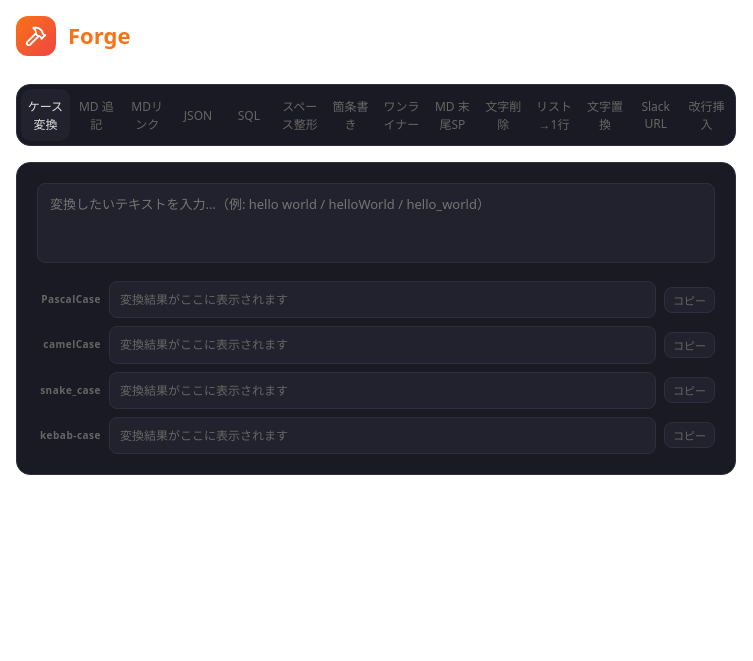
Scenario: MD 追記 › 出力が表示されるとコピーボタンが現れる
The image size is (753, 661).
Click the tab "MD 追記" at [96, 115], box [72, 89, 121, 141]
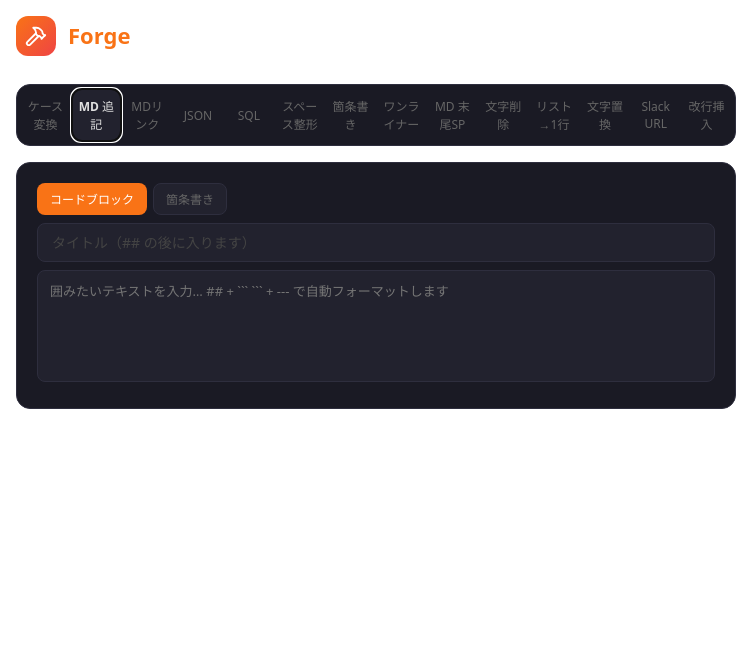
Type "テスト" into the text box named "MDラッパー入力" at [376, 326], box [37, 270, 715, 382]
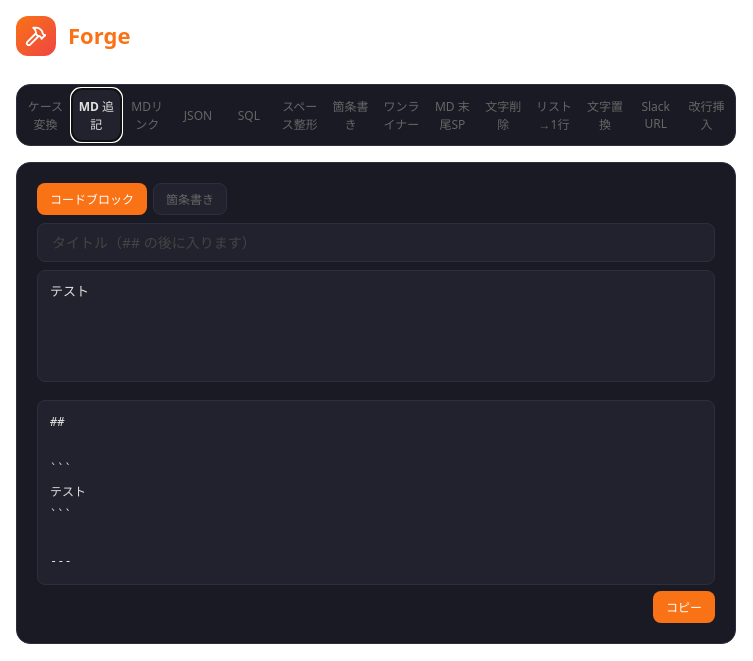
Now the button "コピー" is shown, box [653, 591, 715, 623]
